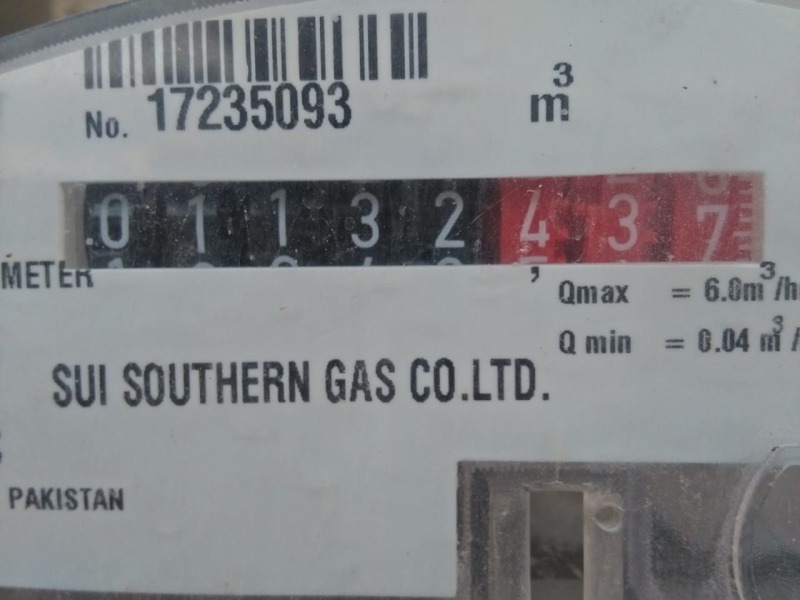ssgc: (57, 171, 768, 271)
